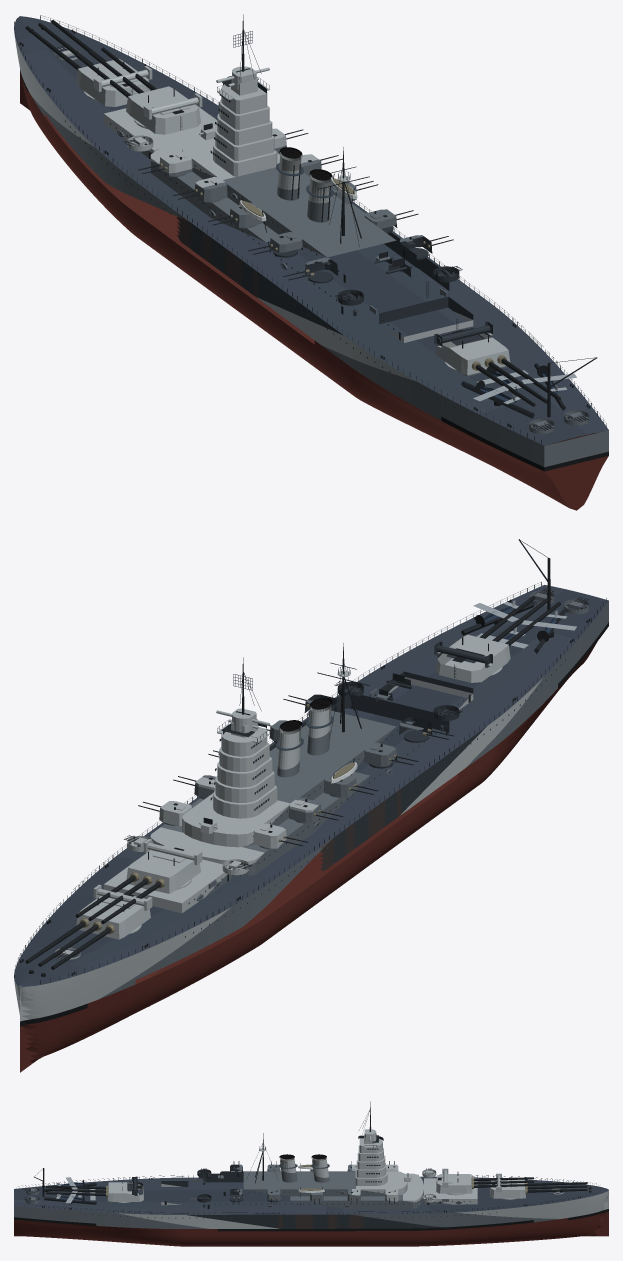
File: north_carolina_m22.glb
The picture shows the model from 3 angles, top to bottom: view 1: azimuth 30°, elevation 25°; view 2: azimuth 150°, elevation 25°; view 3: azimuth 270°, elevation 25°; orthographic projection. The views are drawn at different scales.
Parts seen in each view (by area): view 1: Hull, Turret2, Turret3, Turret1, Mount52, Mount54, Mount58, Mount61; view 2: Hull, Turret3, Turret2, Turret1, Mount52, Mount54, Mount58, Mount61; view 3: Hull, Turret2, Turret3, Turret1.
Boxes of the visible parts, x1,y1,x2,y2 form: Hull: [14, 14, 608, 510]; Turret2: [75, 47, 202, 134]; Turret3: [434, 321, 560, 406]; Turret1: [25, 20, 152, 106]; Mount52: [138, 151, 192, 176]; Mount54: [173, 177, 227, 202]; Mount58: [248, 232, 302, 257]; Mount61: [283, 257, 338, 283]; Hull: [14, 539, 608, 1072]; Turret3: [434, 595, 560, 682]; Turret2: [75, 839, 202, 923]; Turret1: [25, 884, 152, 969]; Mount52: [253, 823, 308, 849]; Mount54: [288, 797, 343, 823]; Mount58: [363, 742, 418, 768]; Mount61: [399, 717, 453, 742]; Hull: [14, 1101, 608, 1246]; Turret2: [436, 1168, 533, 1195]; Turret3: [46, 1177, 143, 1202]; Turret1: [490, 1173, 587, 1199].
Size of the model in its own units: 38 by 55.5 by 222.
